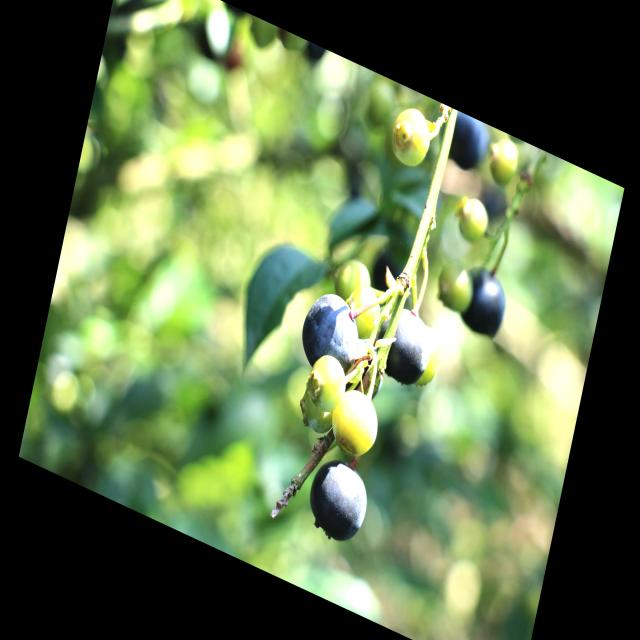blueberry: (367, 292, 442, 403), (294, 282, 370, 389), (301, 448, 374, 550), (448, 254, 514, 350), (431, 103, 498, 184)
blueberry-unripe: (324, 379, 386, 464), (388, 97, 436, 175), (431, 250, 478, 322), (340, 274, 388, 342), (306, 346, 352, 413), (330, 248, 375, 314), (409, 325, 446, 395), (484, 132, 526, 192), (454, 188, 494, 249), (293, 388, 335, 439)
